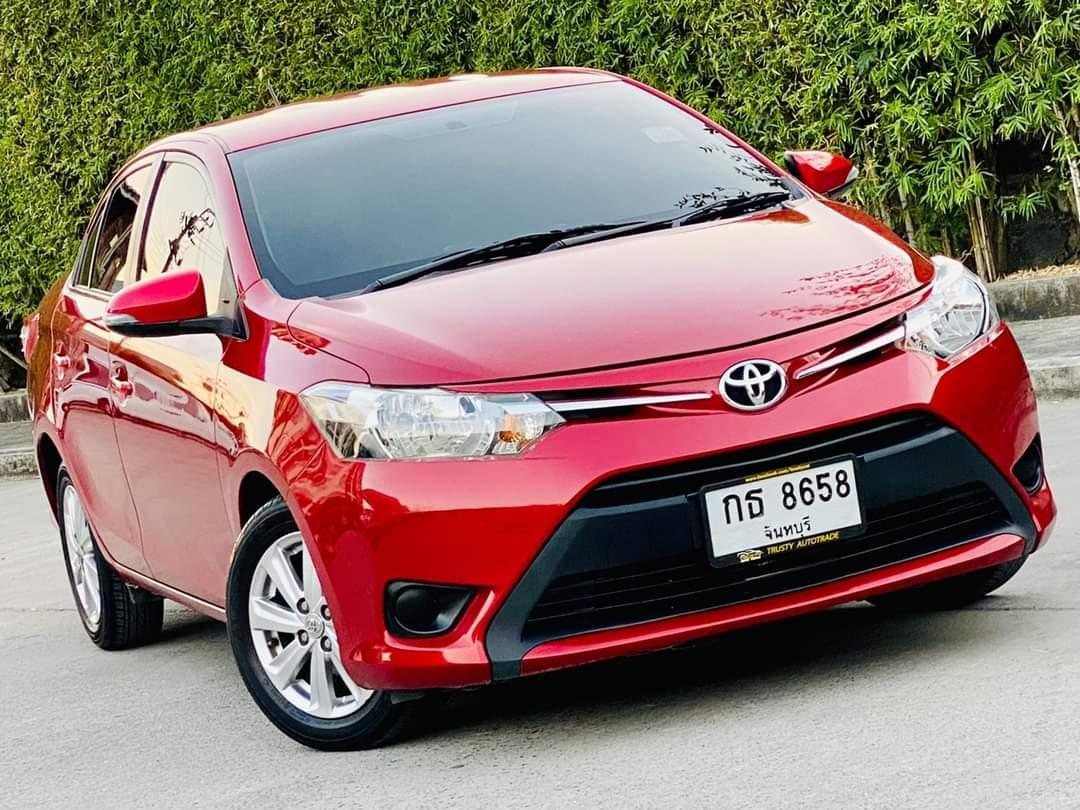license-plate: (701, 450, 869, 573)
